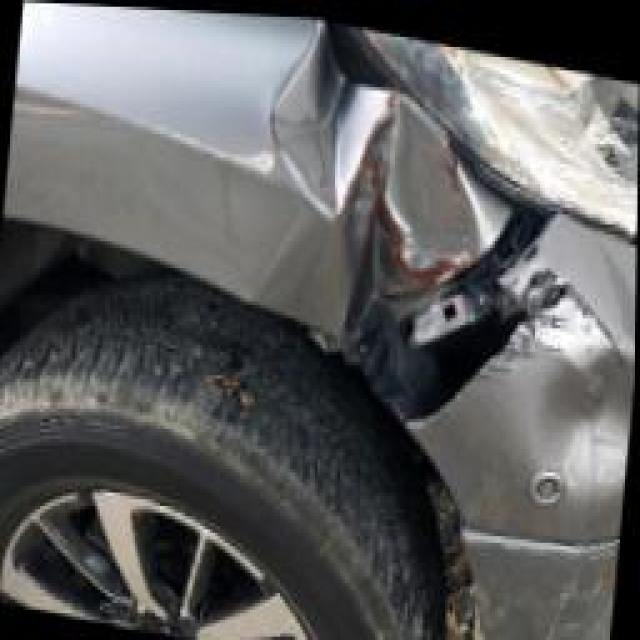Bumper: (425, 208, 638, 640)
Fender: (140, 7, 499, 332)
